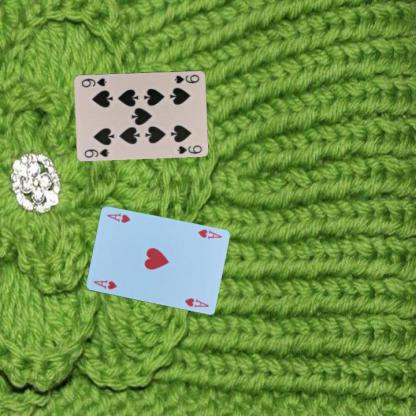9s: (82, 146, 110, 159), (172, 72, 201, 84)
Ah: (195, 226, 223, 240), (91, 277, 118, 291)
